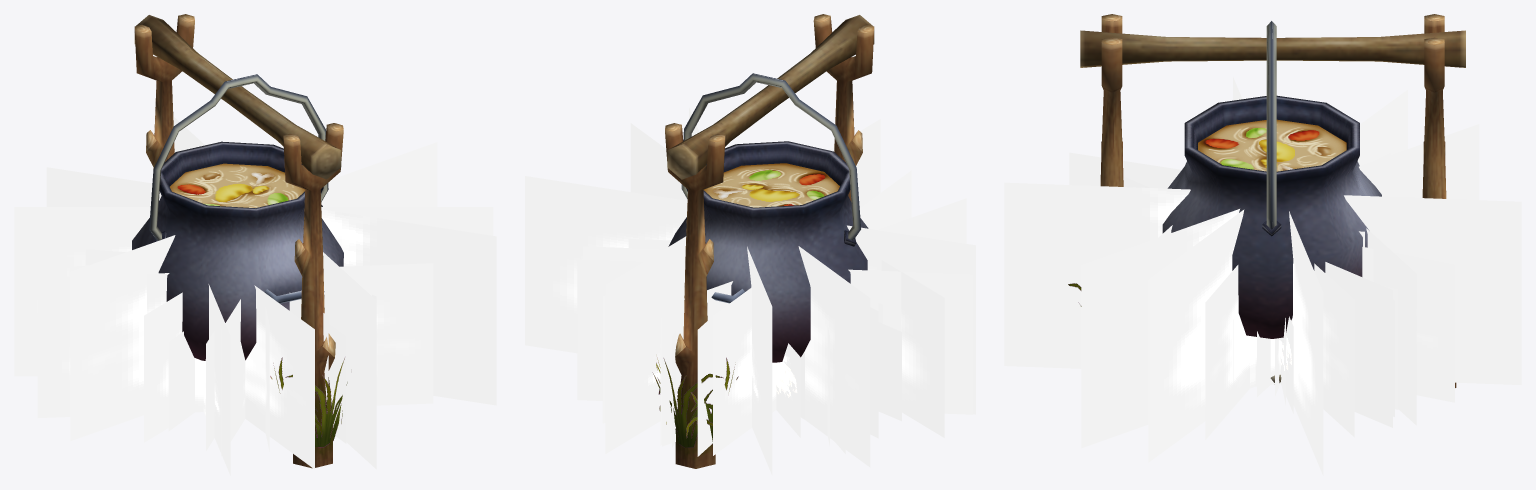
Rendered from a_SWApot02.glb.
3 views of the same model, side by side, from view 1: azimuth 30°, elevation 25°; view 2: azimuth 150°, elevation 25°; view 3: azimuth 270°, elevation 25° (orthographic). The views are drawn at different scales.
Parts seen in each view (by area): view 1: a_SWApot02; view 2: a_SWApot02; view 3: a_SWApot02.
Part boxes in pixels (x1,y1,x2,y2): a_SWApot02: [14, 14, 496, 475]; a_SWApot02: [525, 14, 975, 475]; a_SWApot02: [1004, 14, 1521, 475].
Size of the model in its own units: 3.1 by 2.37 by 3.13.
9 materials, 9 textured.
